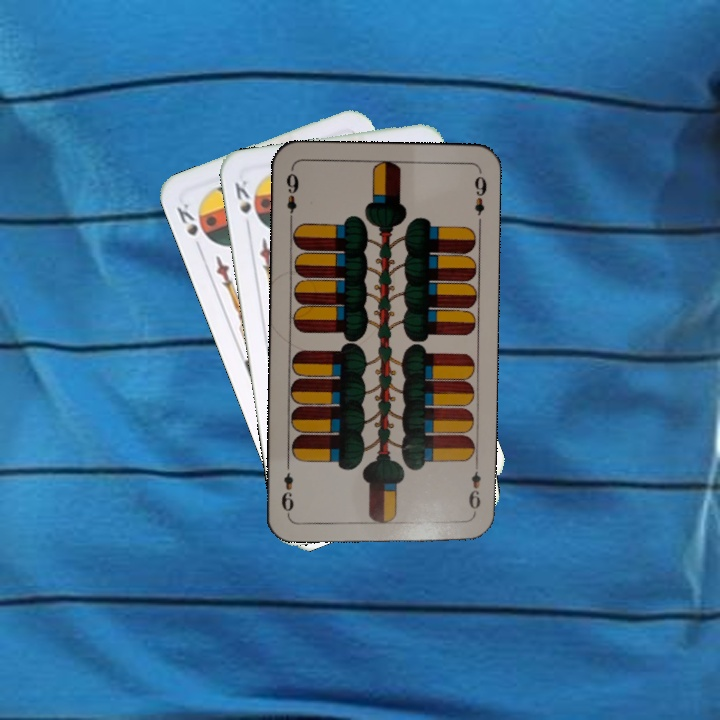E9: (282, 169, 302, 225), (465, 459, 483, 518)
SK: (230, 176, 261, 233), (172, 199, 201, 239)
